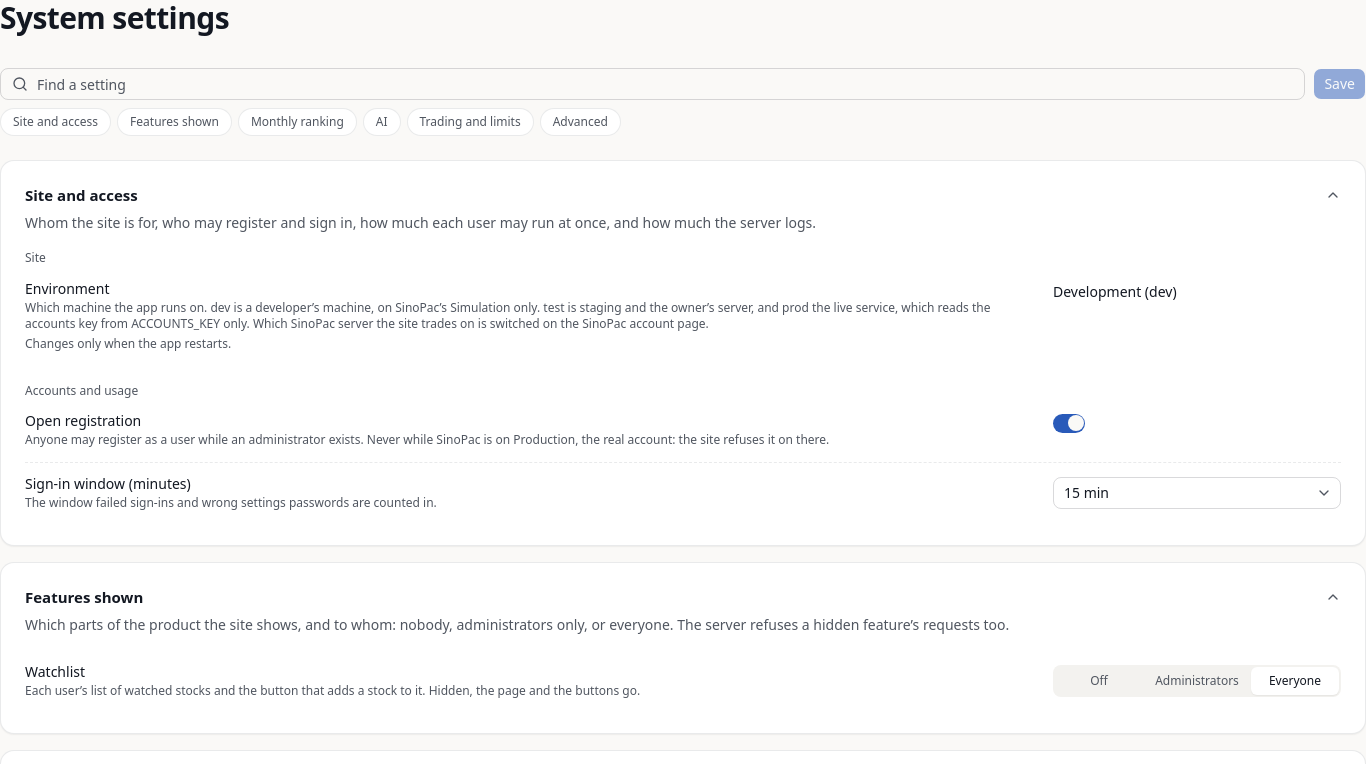
the settings page › keeps the dialog open on a wrong password, and saves nothing
Click the switch named "Open registration" at [1069, 423], box [1053,414,1085,433]
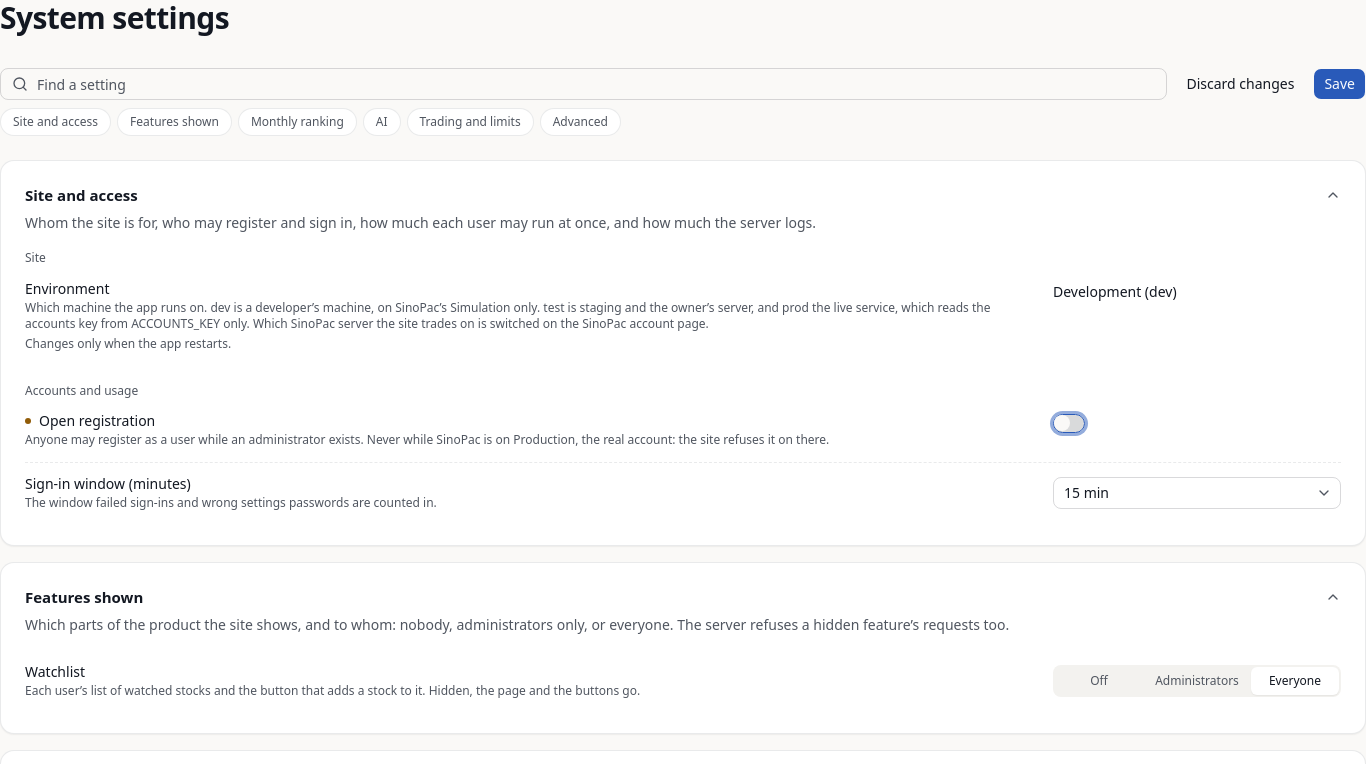
Click the button "Save" at [1340, 84], box [1313,68,1365,100]
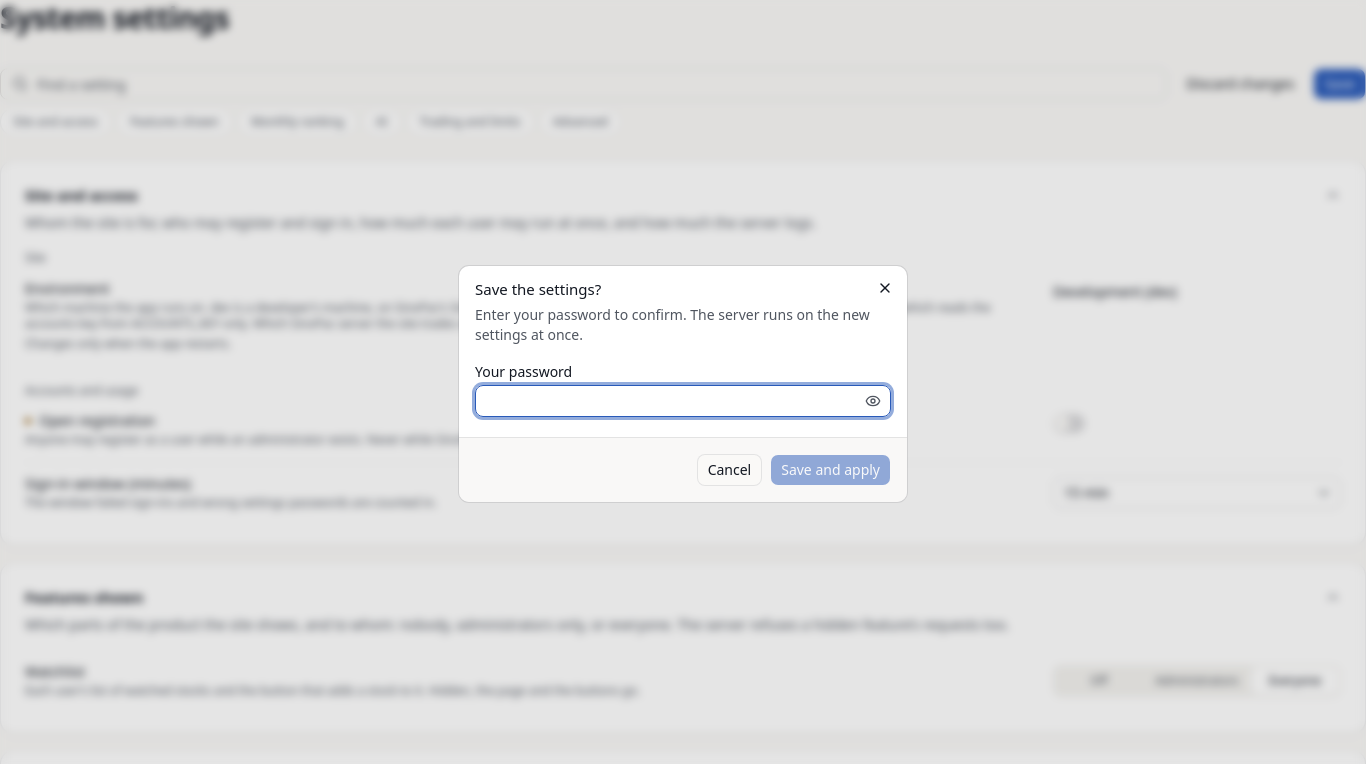
Type "not my password" into the password field labelled "Your password" at [683, 401], box [475,385,891,417]
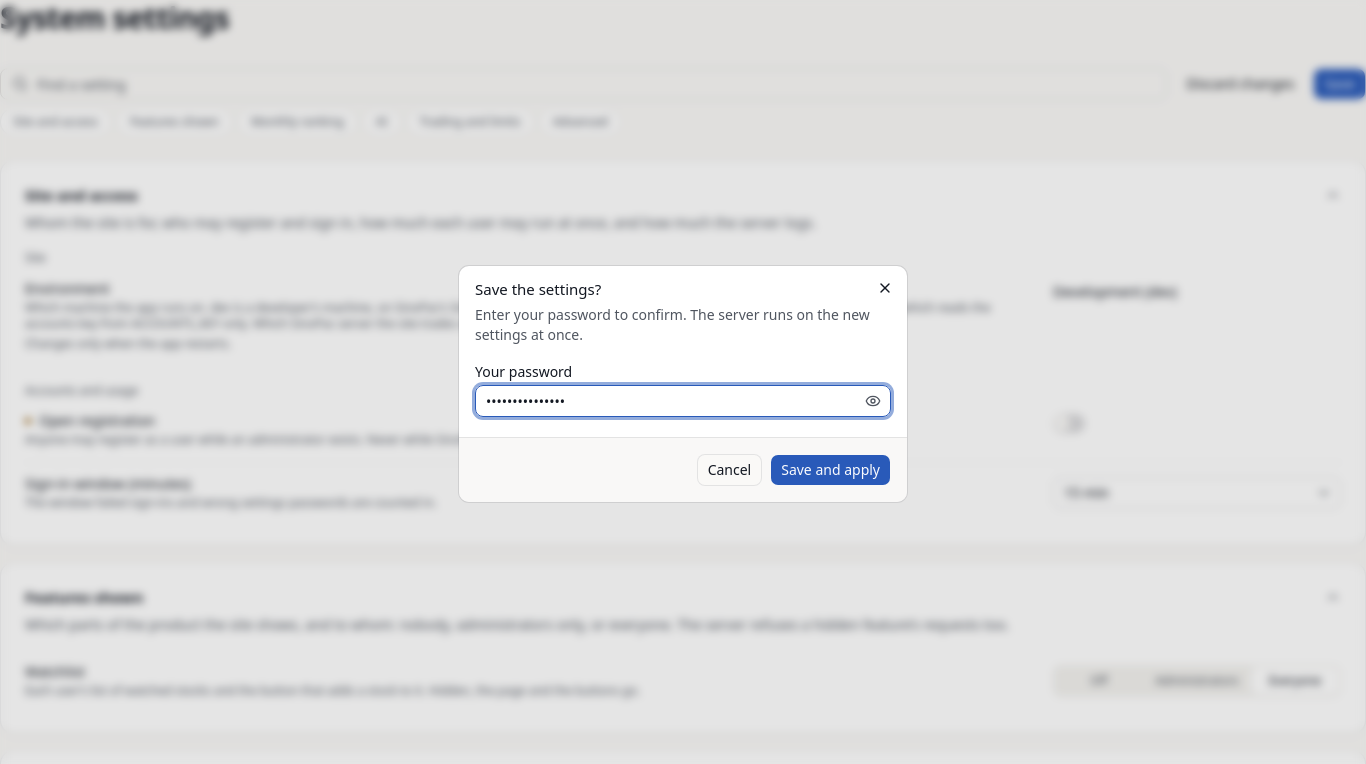
Click the button "Save and apply" at [831, 470], box [770,454,891,486]
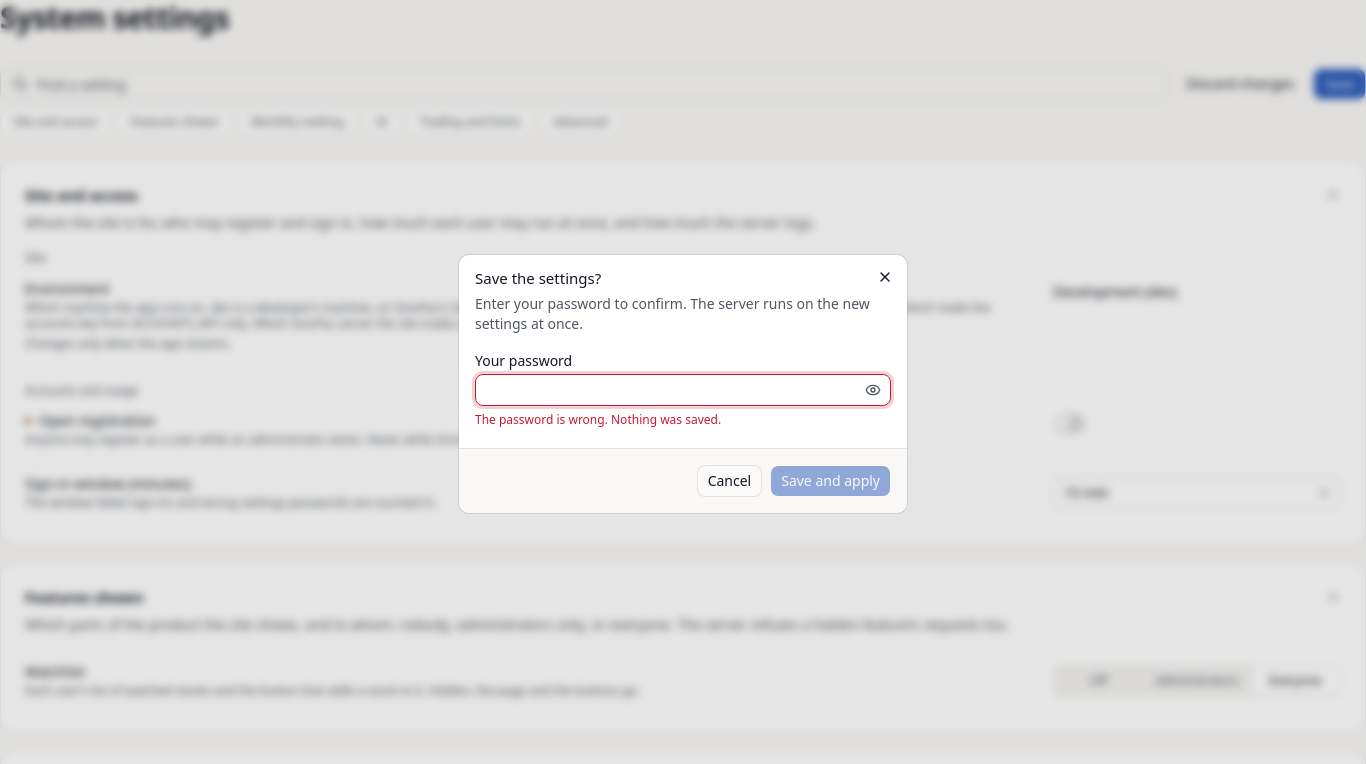
Result: the text "The password is wrong. Nothing was saved." is shown at [475,411,721,428]
